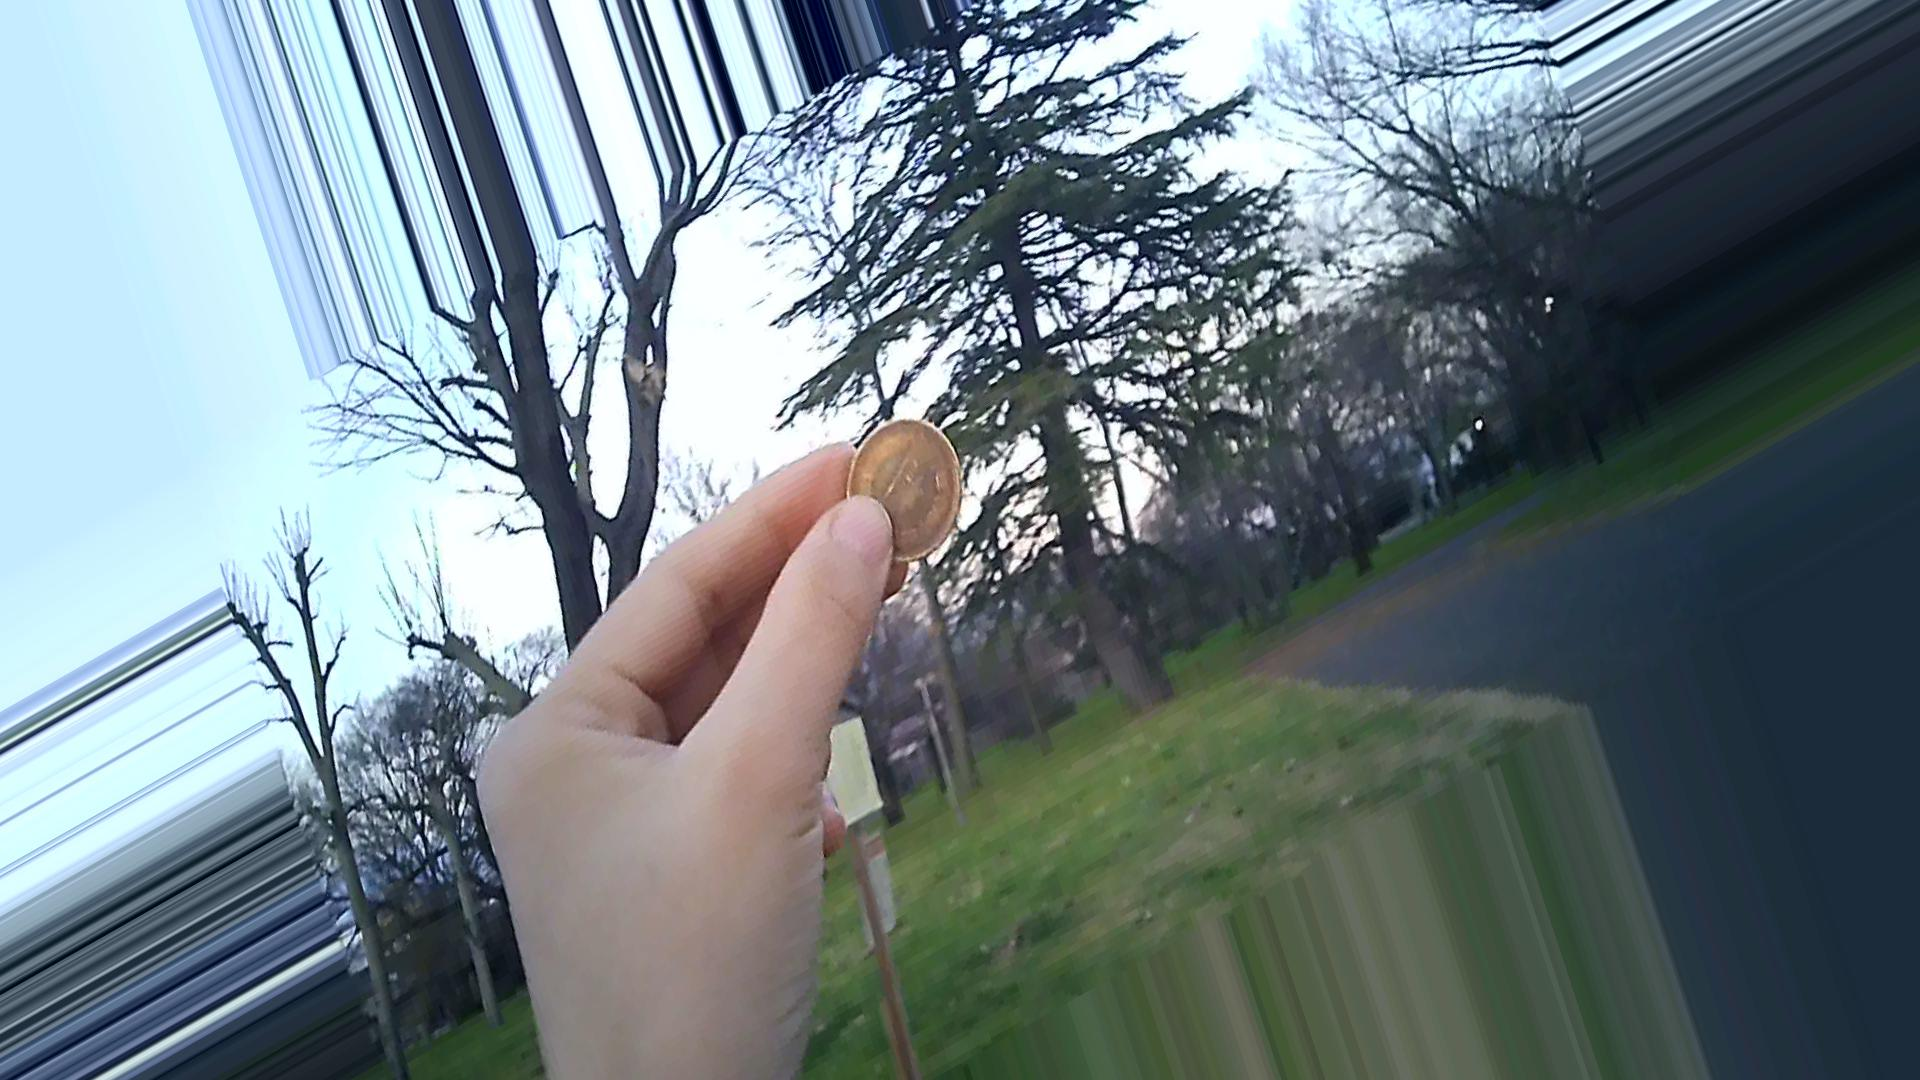10 Yen: (841, 415, 960, 575)
